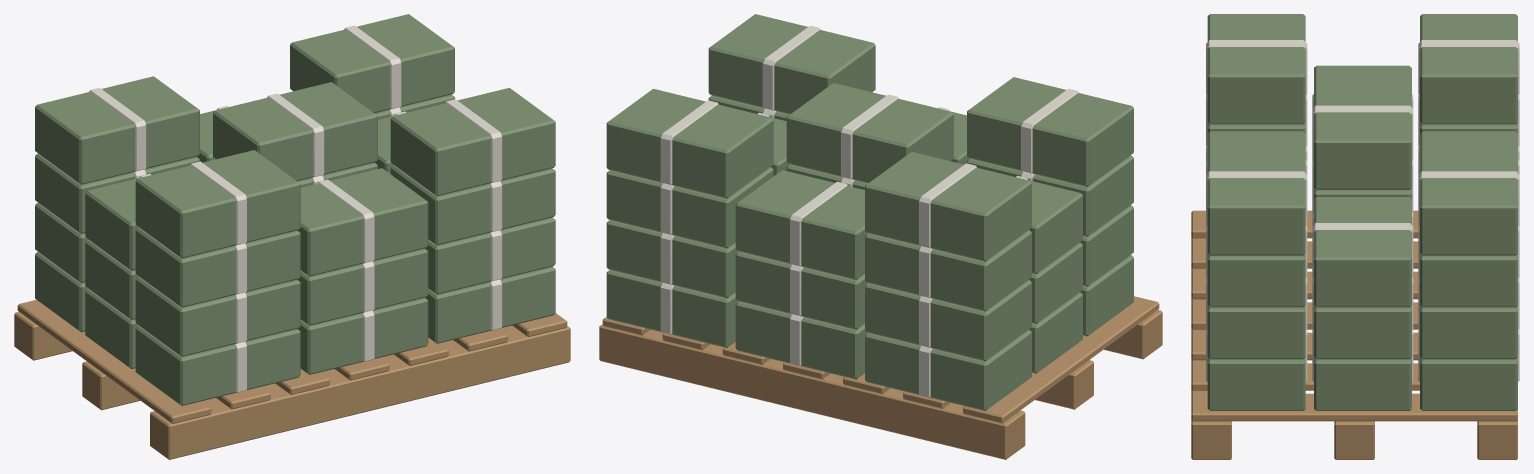
The model's file is prop_cash_pallet.glb.
The picture shows the model from 3 angles, left to right: view 1: azimuth 30°, elevation 25°; view 2: azimuth 150°, elevation 25°; view 3: azimuth 270°, elevation 25°; orthographic projection. The views are drawn at different scales.
Parts seen in each view (by area): view 1: Pallet; view 2: Pallet; view 3: Pallet.
Boxes of the visible parts, x1,y1,x2,y2 form: Pallet: (14, 14, 570, 459); Pallet: (599, 14, 1162, 459); Pallet: (1191, 14, 1519, 459).
Size of the model in its own units: 1.2 by 0.682 by 0.804.
